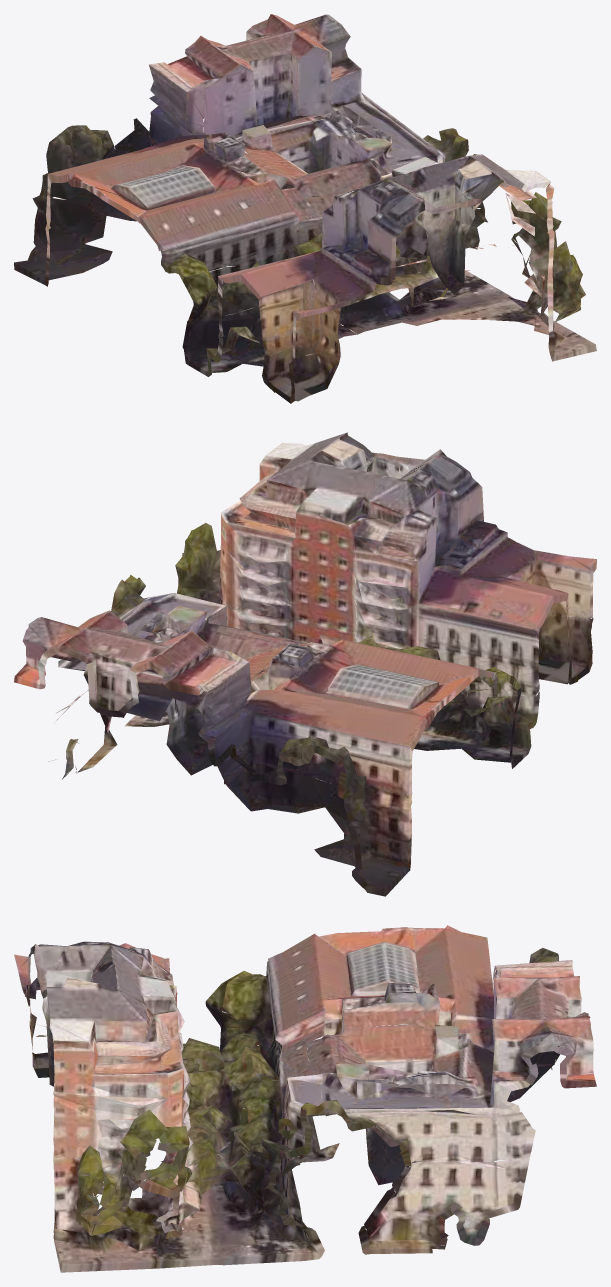
3 renders of one model, top to bottom at view 1: azimuth 30°, elevation 25°; view 2: azimuth 150°, elevation 25°; view 3: azimuth 270°, elevation 25°, orthographic. The views are drawn at different scales.
Visible parts, largest first — view 1: Mesh_0; view 2: Mesh_0; view 3: Mesh_0.
Part boxes in pixels (bbox=[...]): Mesh_0: bbox=[14, 14, 596, 403]; Mesh_0: bbox=[14, 432, 596, 896]; Mesh_0: bbox=[14, 925, 596, 1272].
Bounding box in the file's own units: 66.58 × 35.86 × 82.58.
1 material, 1 textured.
